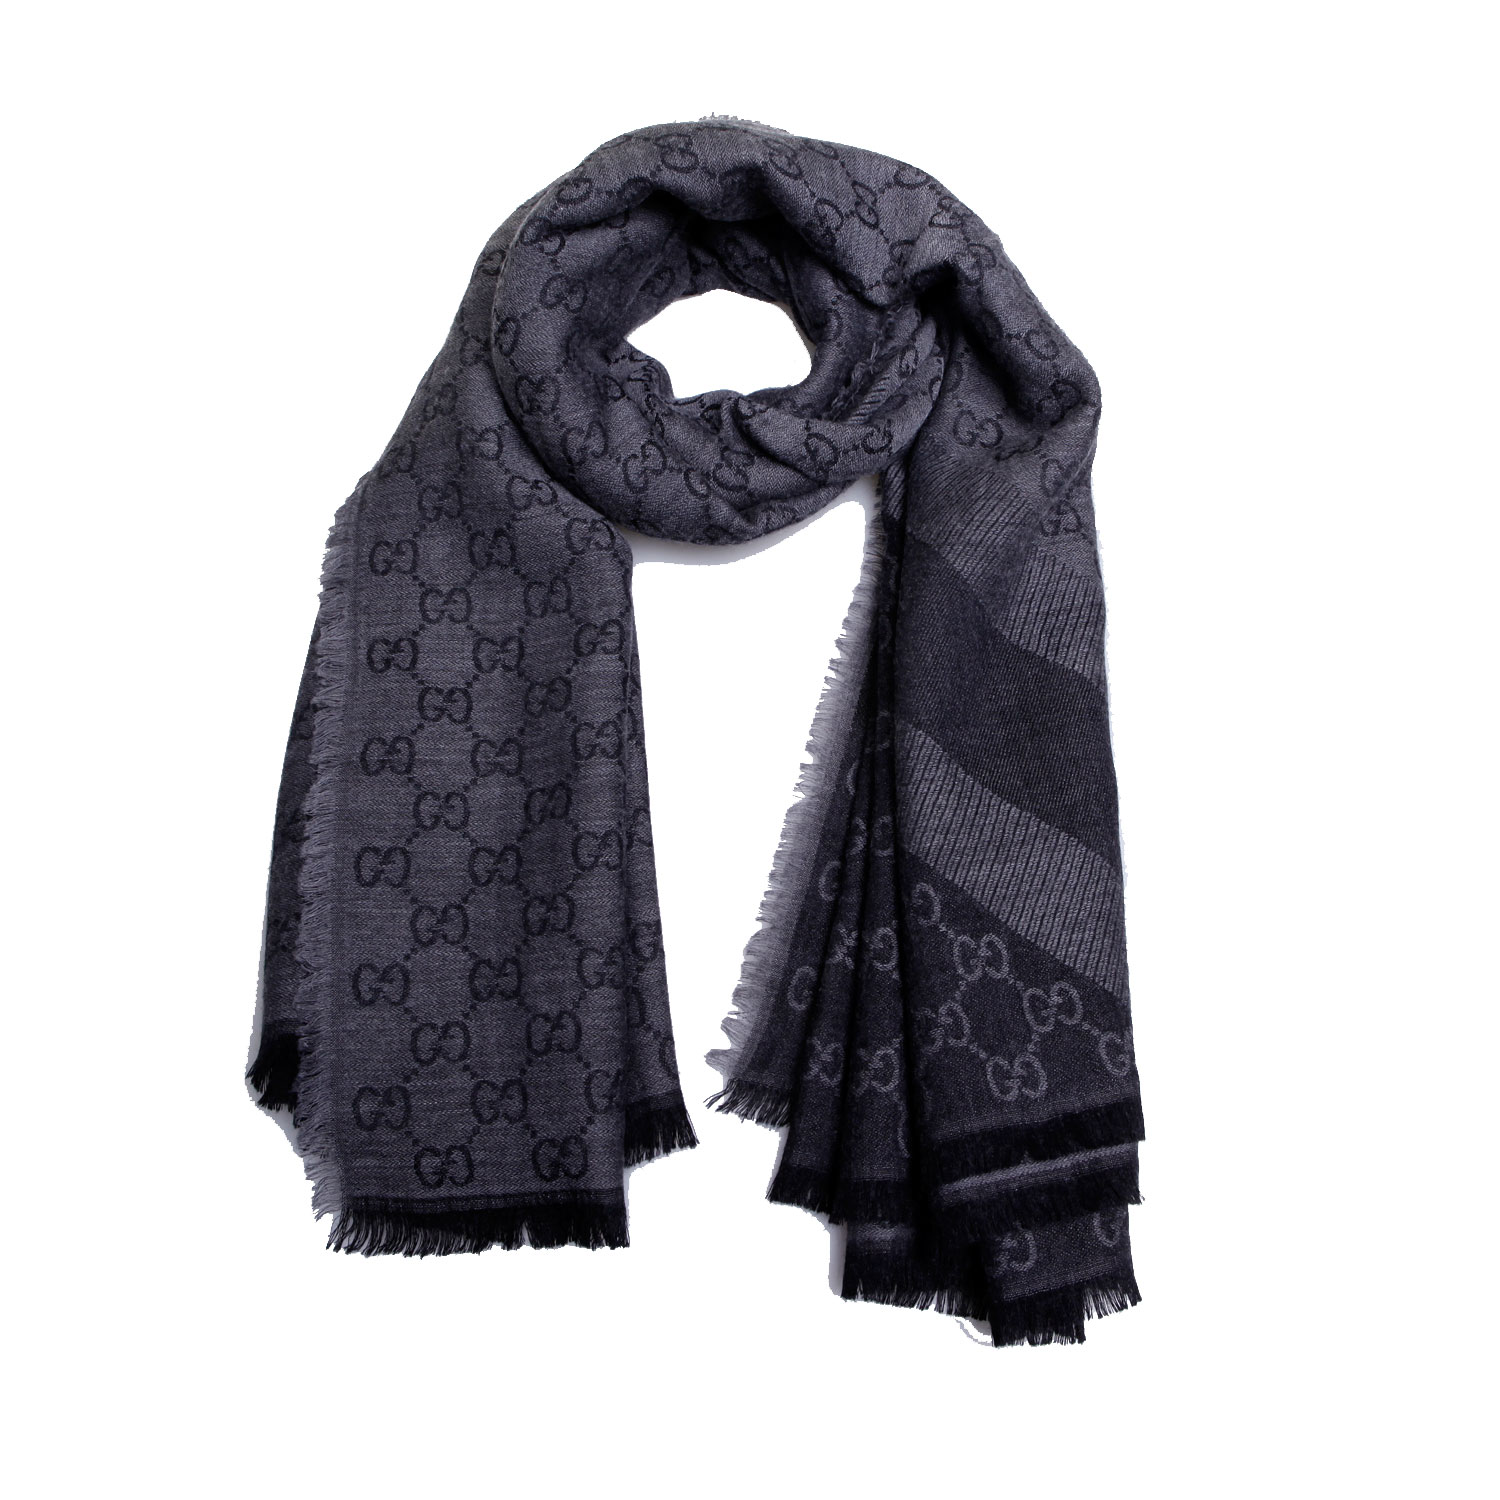flexible: (247, 120, 1152, 1335)
